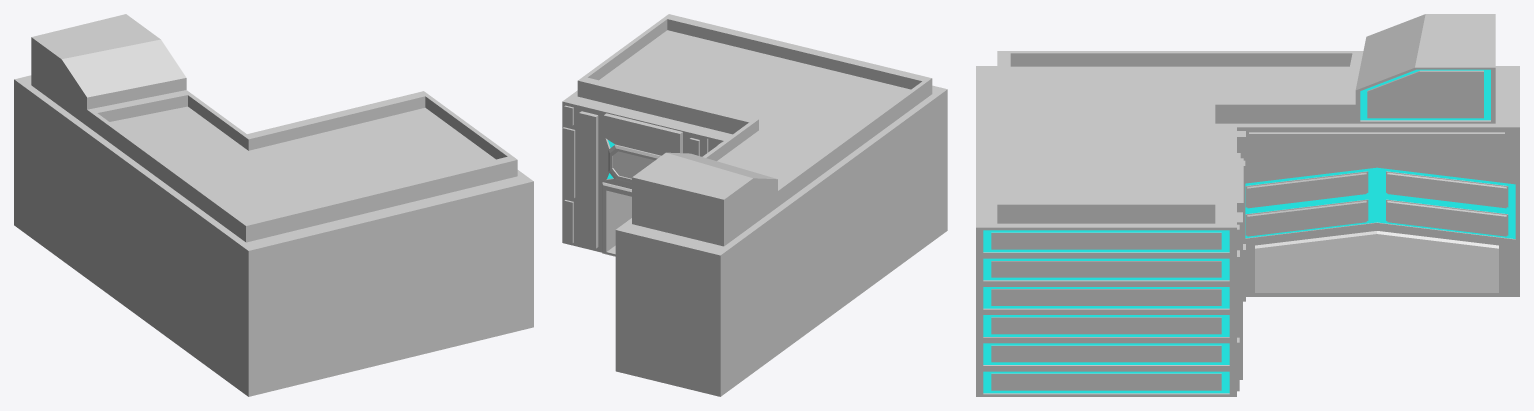
Rendered from building-garage.glb.
The picture shows the model from 3 angles, left to right: view 1: azimuth 30°, elevation 25°; view 2: azimuth 150°, elevation 25°; view 3: azimuth 270°, elevation 25°; orthographic projection. The views are drawn at different scales.
Parts seen in each view (by area): view 1: Cube.041; view 2: Cube.041; view 3: Cube.041.
Part boxes in pixels (x1,y1,x2,y2): Cube.041: (14, 14, 533, 396); Cube.041: (562, 14, 947, 396); Cube.041: (976, 14, 1519, 396).
Bounding box in the file's own units: 34.13 × 22.2 × 48.57.
